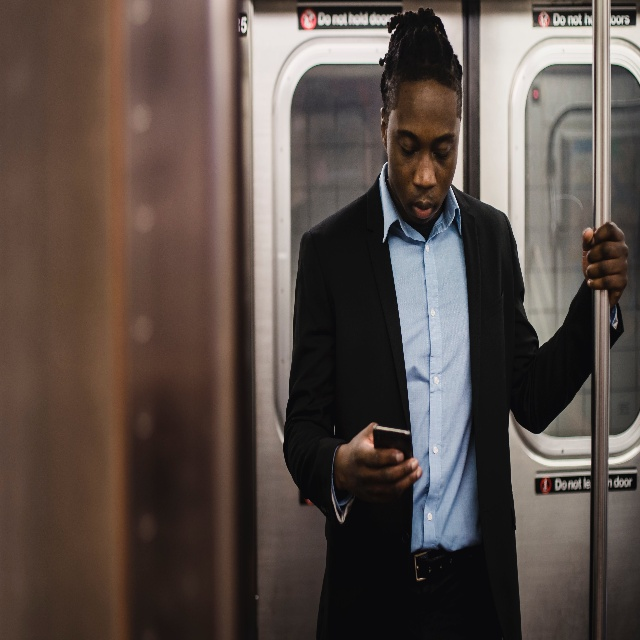Sin_guantes: (352, 420, 421, 502), (582, 223, 627, 306)
